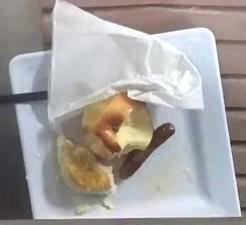biscuit: (57, 136, 114, 194)
fruit: (82, 93, 152, 160)
sausage: (120, 123, 175, 179)
